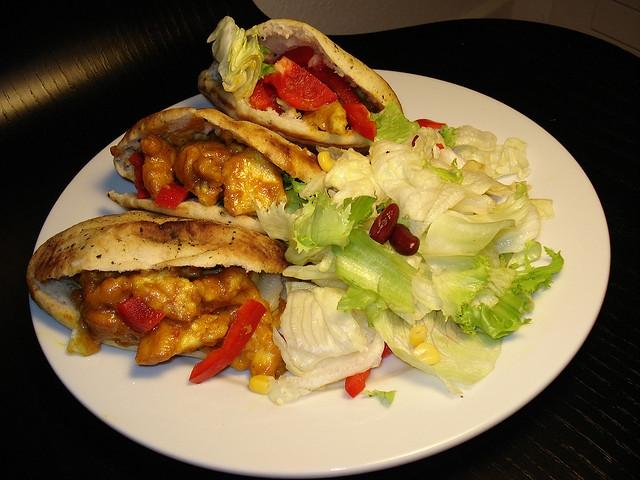bell pepper: (189, 298, 268, 384), (258, 56, 338, 111), (345, 342, 393, 398), (306, 66, 362, 104), (115, 297, 167, 334), (342, 103, 378, 142), (250, 83, 285, 116), (128, 150, 150, 199), (412, 120, 447, 150), (154, 182, 190, 210), (272, 46, 314, 67)
lettuce: (423, 182, 531, 322), (270, 287, 384, 406), (371, 306, 503, 394), (248, 188, 378, 274), (456, 246, 564, 339), (408, 169, 534, 238), (331, 226, 420, 314), (366, 140, 441, 222), (452, 138, 531, 182), (324, 147, 388, 201), (370, 100, 420, 144), (332, 178, 377, 208), (453, 125, 498, 152), (234, 25, 260, 68), (448, 194, 500, 214), (283, 180, 308, 215)
